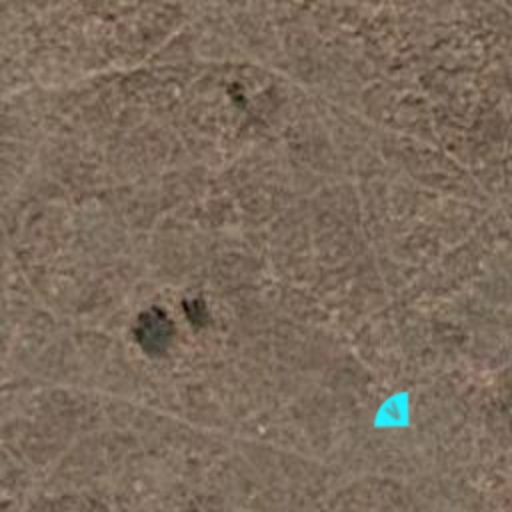quarter_circle: (360, 378, 428, 446)
